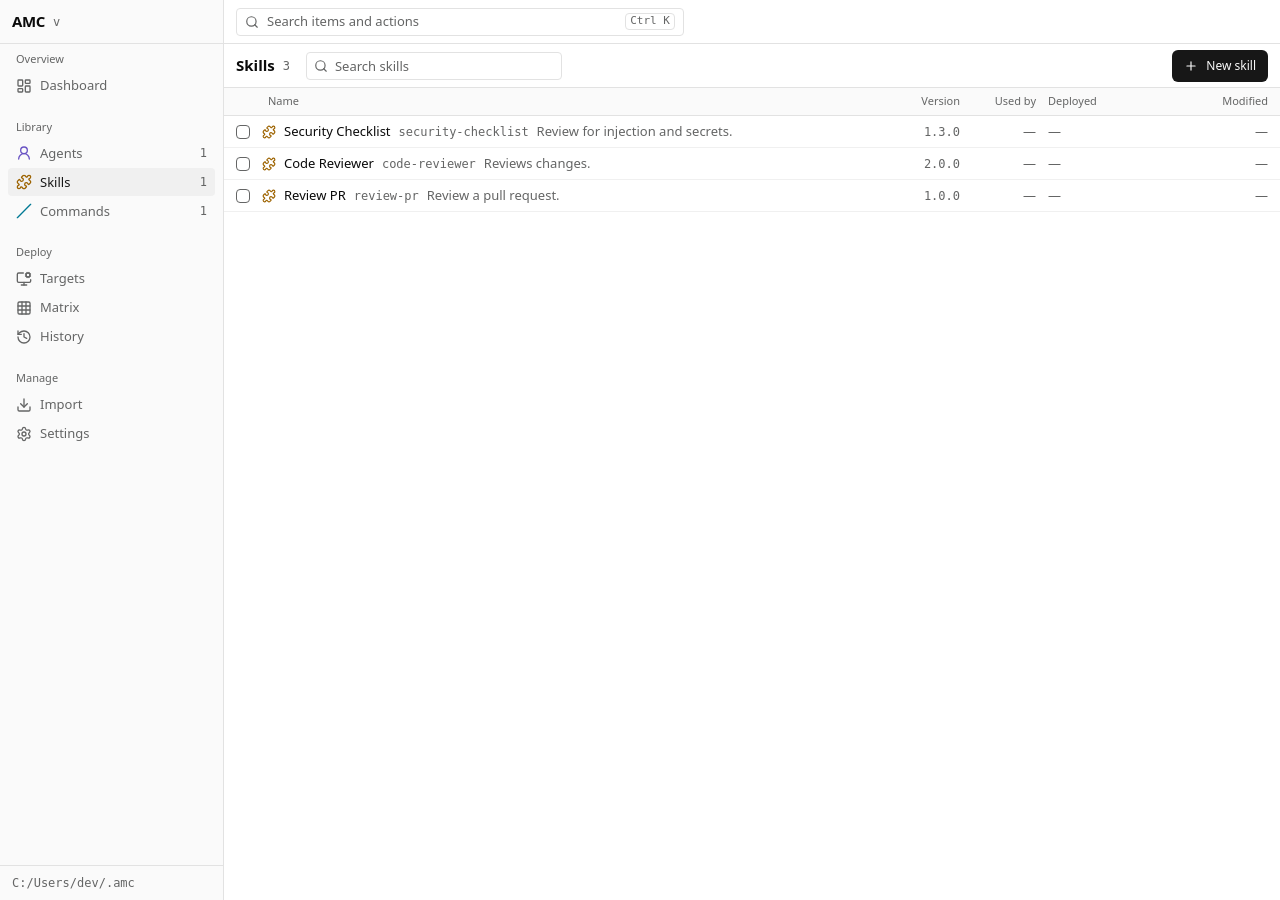
app shell (T1.6.1) › navigates between kinds with the keyboard
Click the link "Agents 1" at (61, 153), box 8,139 -> 215,167
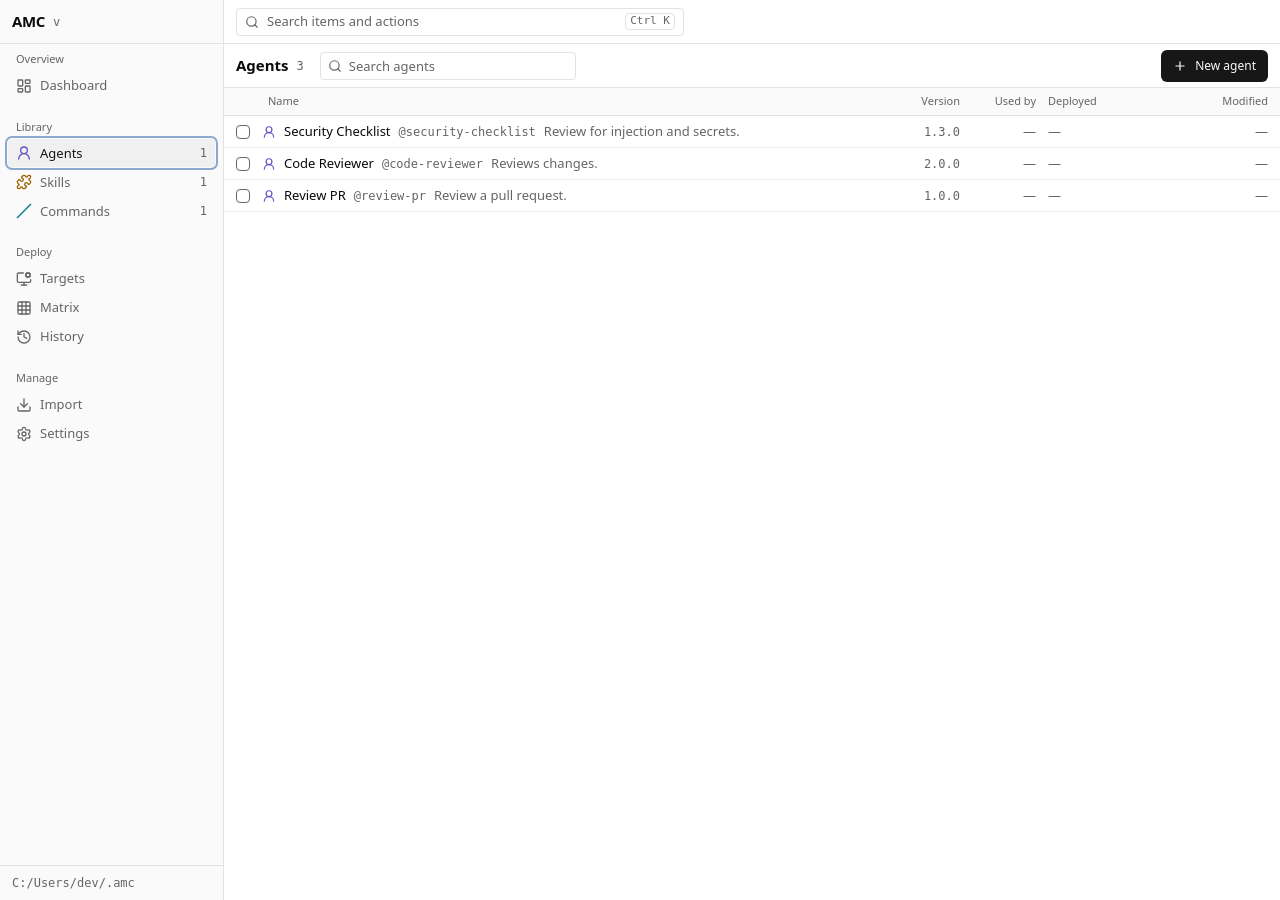
Expected: the text "Code Reviewer" is shown, 284,154 -> 374,173
Expected: the heading "Agents" is shown, 236,54 -> 288,77
